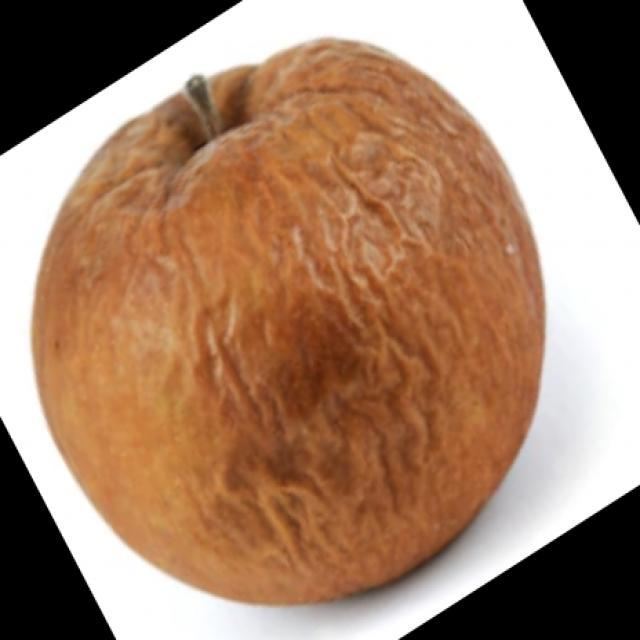Rotten: (36, 52, 516, 600)
